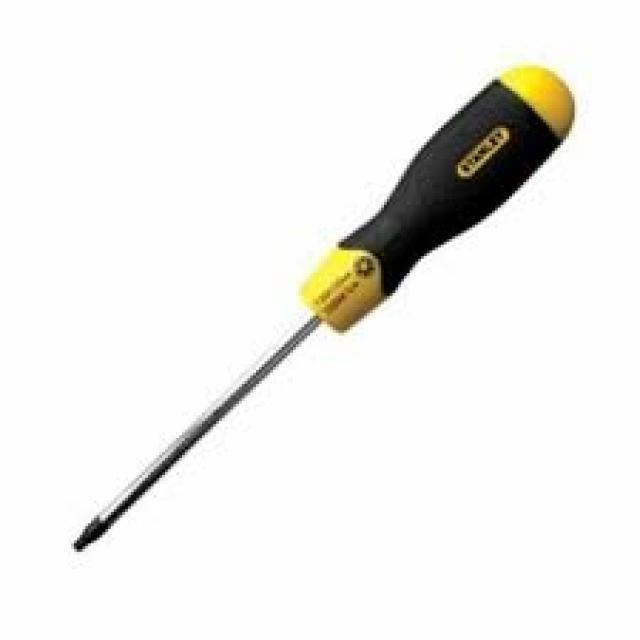screwdriver: (65, 61, 580, 556)
